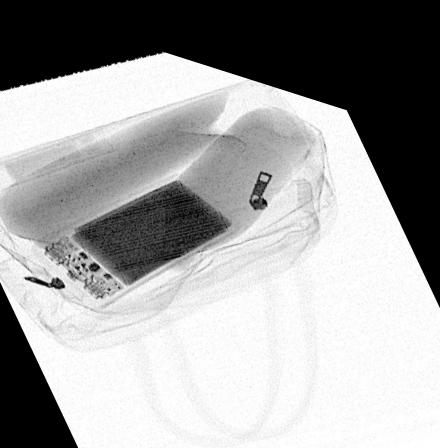Powerbank: (33, 161, 244, 303)
